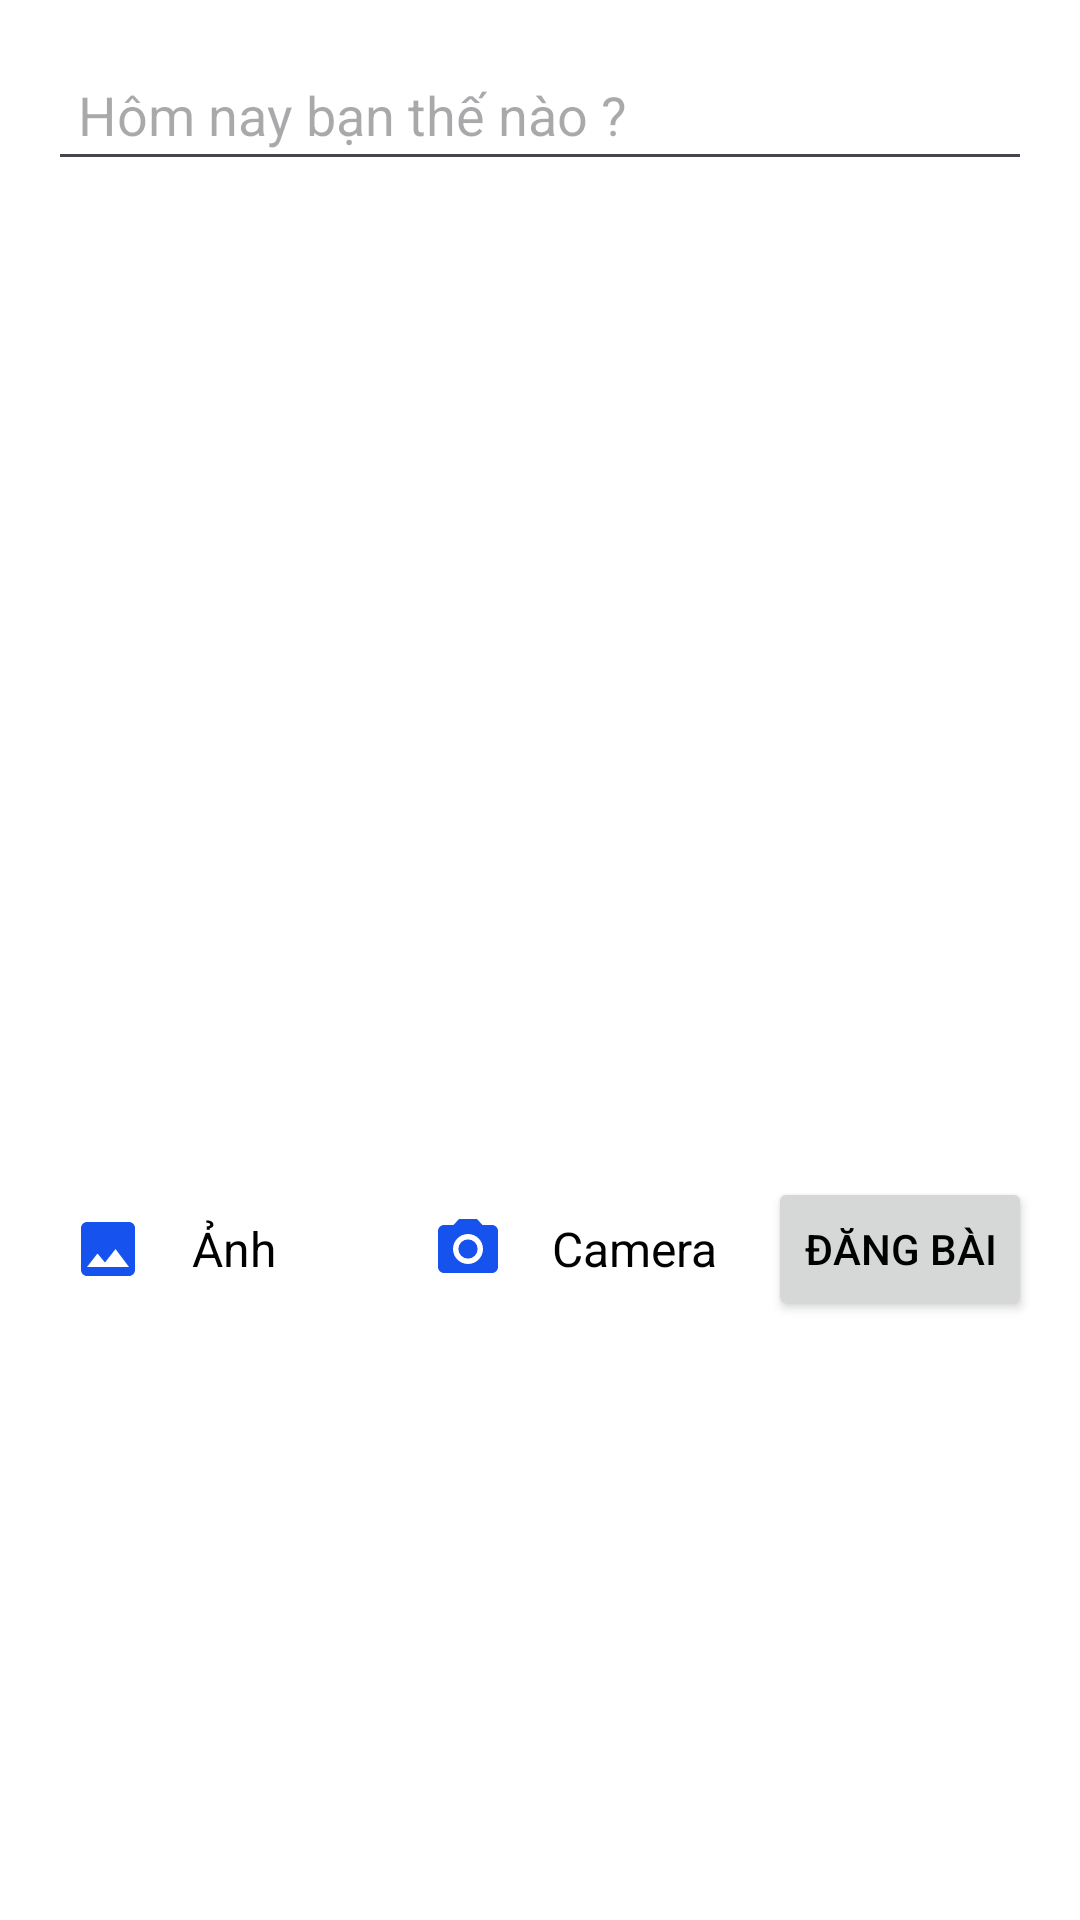

Named icons in this screenshot (1080w x 1920h) and their bounding boxes, (x1, y1, x2, y2):
Select Image: (81, 1222, 135, 1276)
Take Photo: (438, 1219, 498, 1273)
